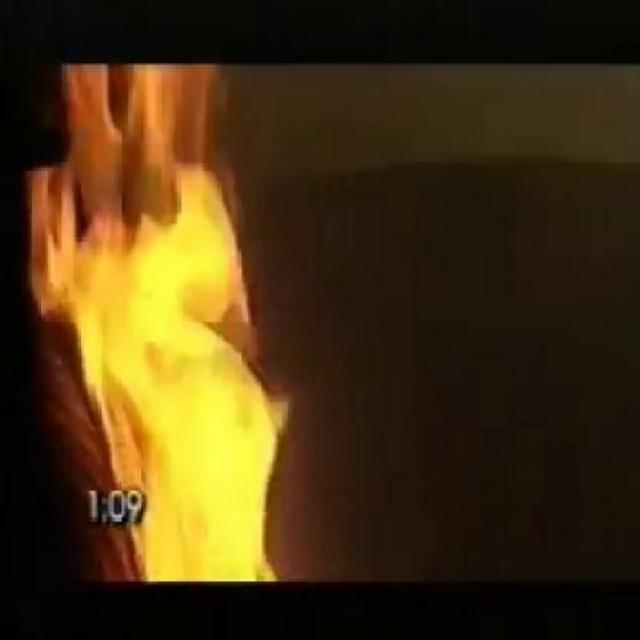fire: (29, 64, 286, 480), (152, 483, 274, 582)
